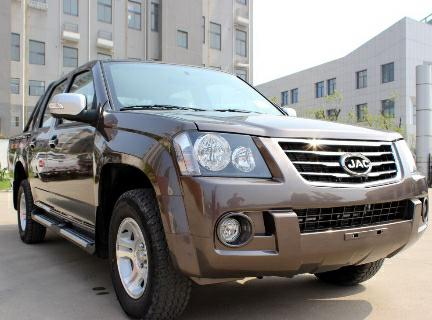江淮-瑞铃: (10, 58, 426, 320)
